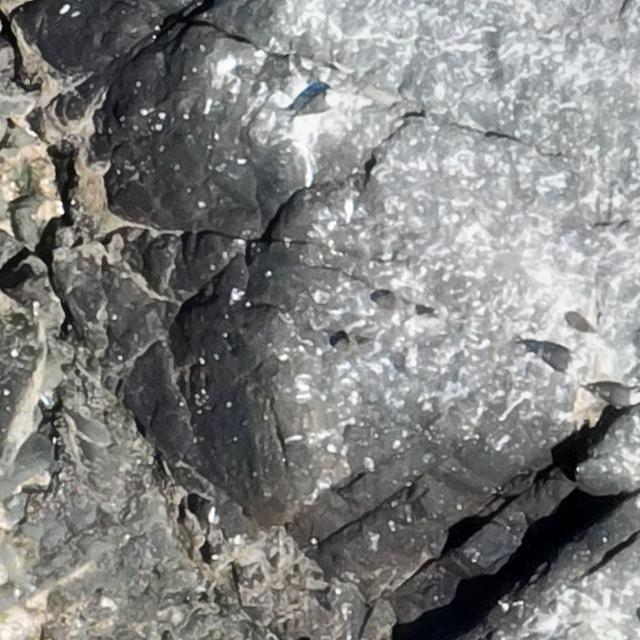umineko: (593, 386, 637, 405), (537, 346, 574, 367), (298, 93, 332, 115)
